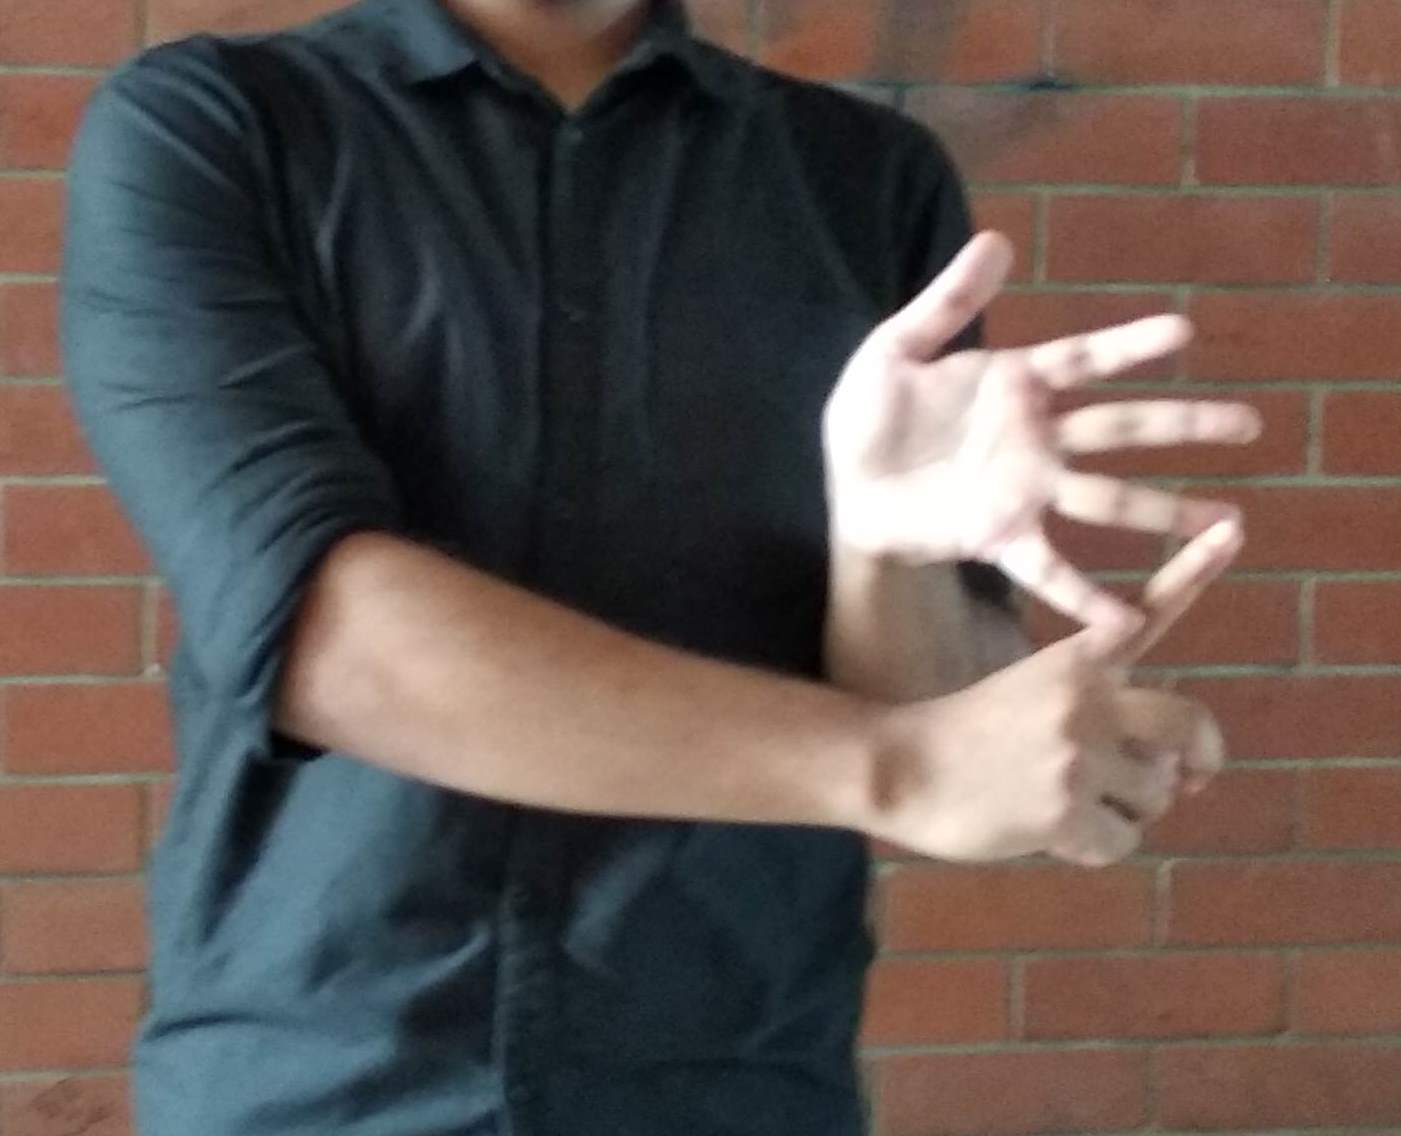e: (854, 231, 1272, 884)
